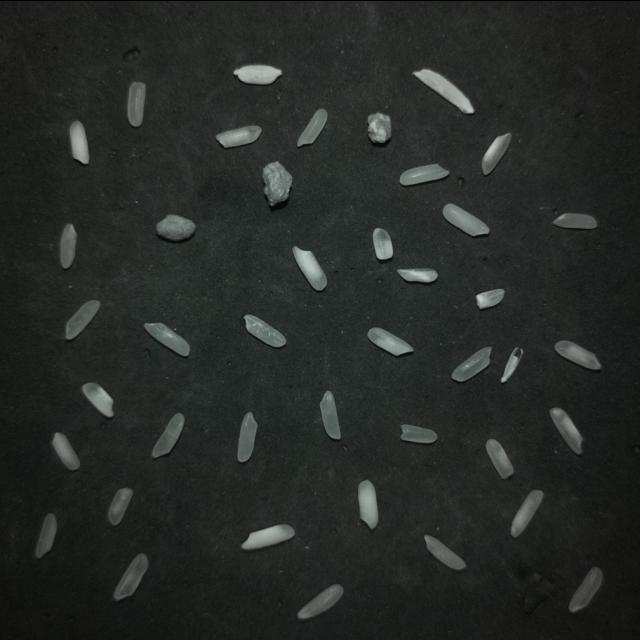broken: (51, 432, 79, 469), (107, 487, 132, 525), (215, 125, 260, 146), (36, 513, 55, 556), (59, 223, 76, 268), (552, 212, 596, 228), (400, 424, 436, 442), (475, 288, 504, 308)
chalky: (510, 489, 542, 536), (292, 246, 326, 290), (442, 203, 488, 235), (240, 524, 294, 549), (367, 327, 412, 355), (81, 382, 112, 416), (357, 479, 377, 529), (68, 121, 88, 163), (372, 227, 392, 259), (396, 267, 437, 281)
foreign: (413, 69, 472, 112), (262, 161, 291, 205), (156, 214, 195, 240), (233, 64, 280, 83), (500, 347, 522, 381), (367, 112, 390, 141)
whole: (113, 552, 147, 599), (296, 584, 342, 618), (143, 322, 189, 355), (549, 407, 582, 453), (568, 566, 601, 611), (423, 534, 464, 569), (152, 413, 184, 457), (451, 346, 490, 381), (65, 299, 99, 339), (243, 314, 285, 346), (554, 340, 600, 369), (481, 132, 510, 174), (296, 108, 326, 146), (485, 438, 512, 478), (399, 164, 448, 184), (319, 390, 339, 438), (238, 412, 256, 460), (127, 82, 145, 126)
